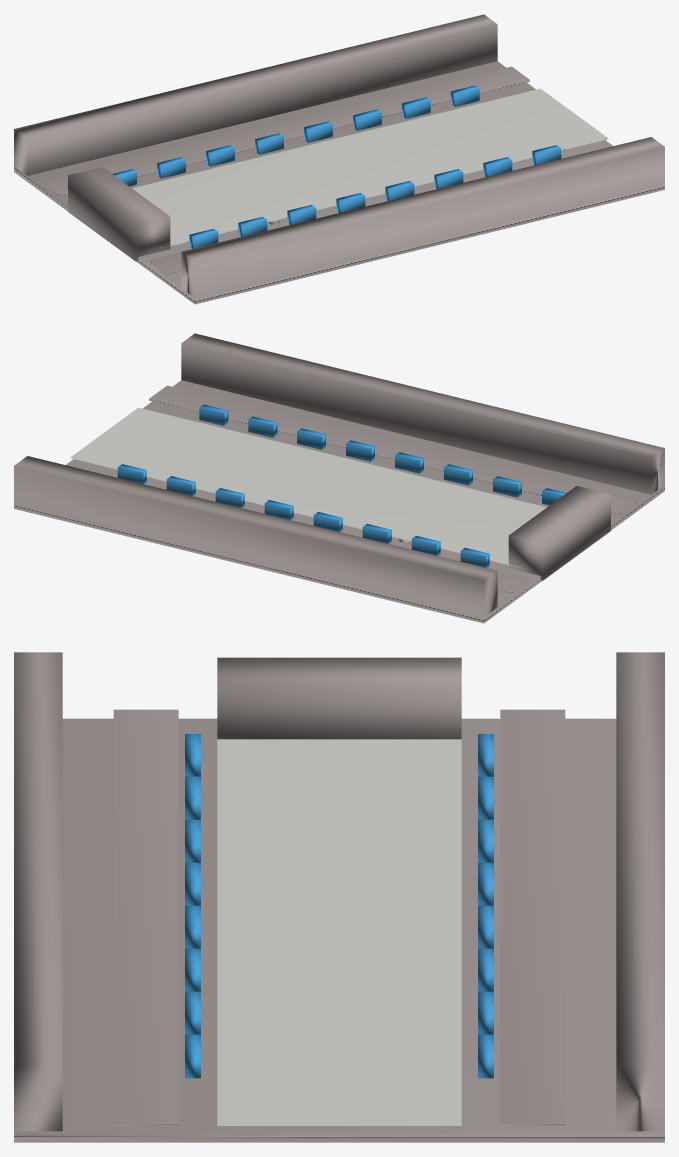
The picture shows the model from 3 angles, top to bottom: view 1: azimuth 30°, elevation 25°; view 2: azimuth 150°, elevation 25°; view 3: azimuth 270°, elevation 25°; orthographic projection. The views are drawn at different scales.
Parts seen in each view (by area): view 1: granite_simplified, features_simplified; view 2: granite_simplified, features_simplified; view 3: features_simplified, granite_simplified.
Boxes of the visible parts, x1,y1,x2,y2 form: granite_simplified: [14, 14, 664, 304]; features_simplified: [41, 66, 608, 274]; granite_simplified: [14, 333, 664, 623]; features_simplified: [70, 385, 637, 593]; features_simplified: [113, 709, 565, 1125]; granite_simplified: [14, 652, 664, 1142].
Bounding box in the file's own units: 48.25 × 4.2 × 32.
2 materials, 2 textured.
